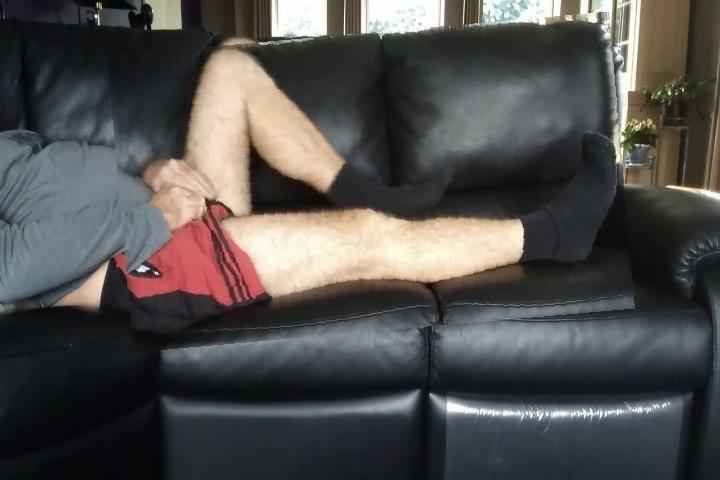lowerbody: (114, 24, 630, 343)
